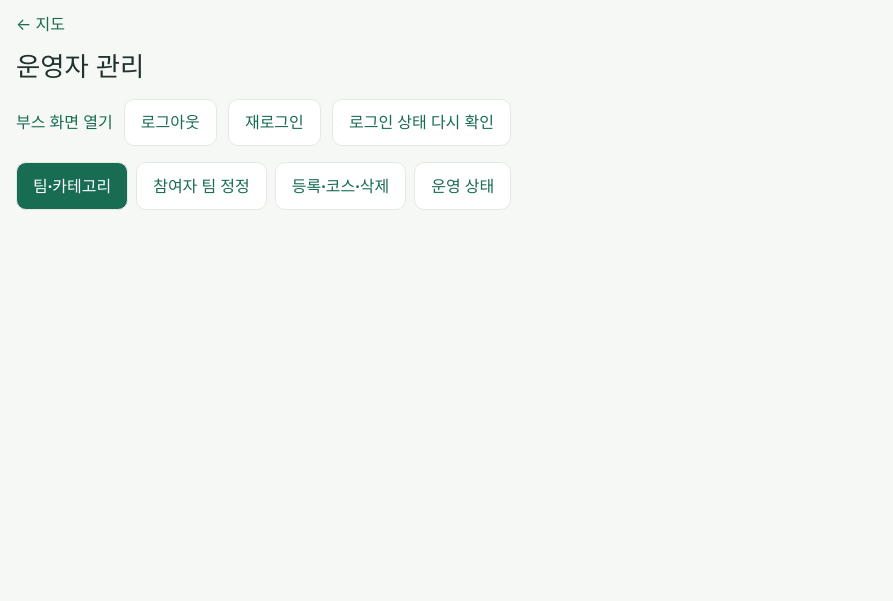
it: keeps the admin registration and deletion action without an introduction
The width and height of the screenshot is (893, 601).
Click the button "등록·코스·삭제" at (341,186), box [275,162,406,210]
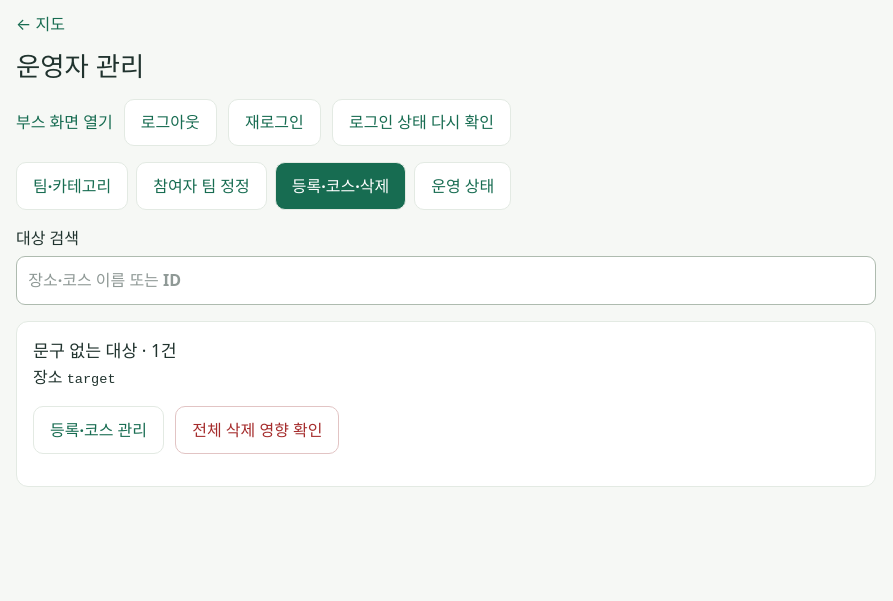
Click the button "등록·코스 관리" at (98,430), box [33,406,164,454]
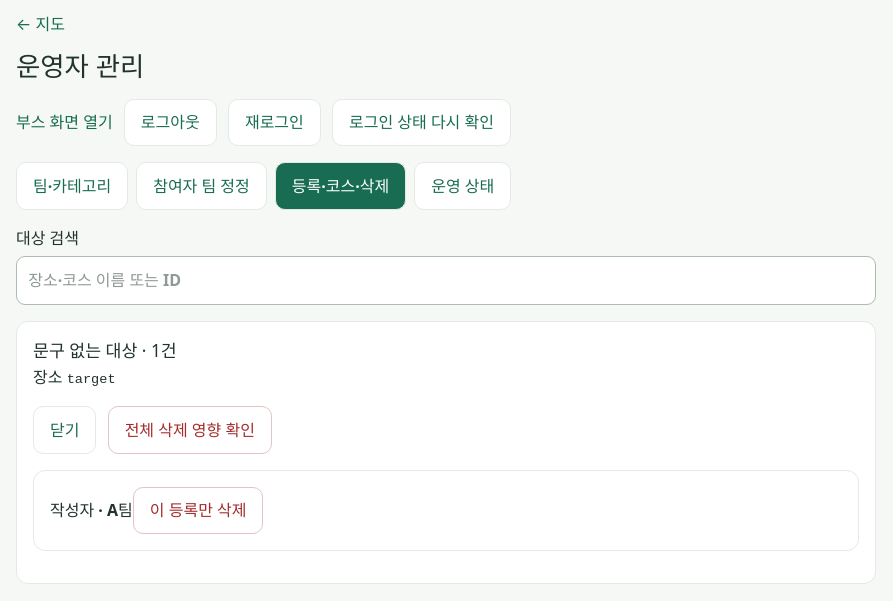
Now the text "작성자 · A팀" is shown, box [50,499,133,521]
Now the button "이 등록만 삭제" is shown, box [133,487,263,534]
